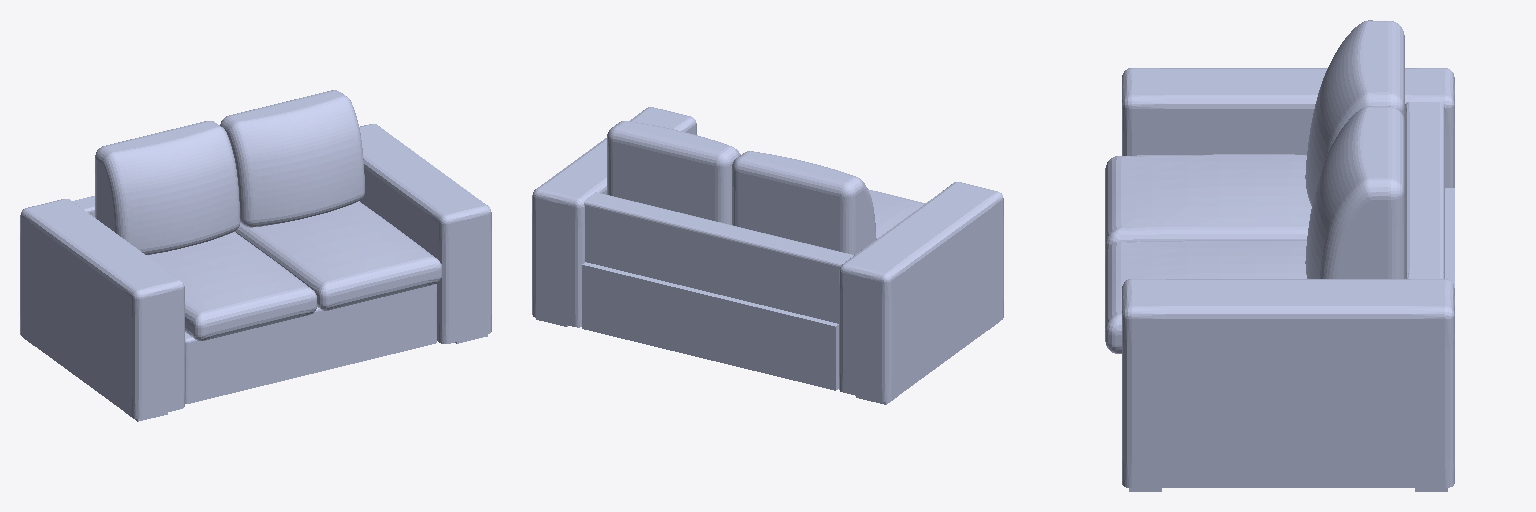
The robot description file, URDF, robot "couch_double_seater":
<robot
  name="couch_double_seater">
  <link
    name="couch_double_seater">
    <inertial>
      <origin
        xyz="0.875 0.53844 0.32362"
        rpy="0 0 0" />
      <mass
        value="971.7" />
      <inertia
        ixx="114.496758296967"
        ixy="-0.000377848140600712"
        ixz="-0.00108224404037305"
        iyy="290.239741539032"
        iyz="-10.3918742090181"
        izz="328.407367871819" />
    </inertial>
    <visual>
      <origin
        xyz="0 0 0"
        rpy="0 0 0" />
      <geometry>
        <mesh
          filename="package://couch_double_seater/meshes/couch_double_seater.dae" />
      </geometry>
      <material
        name="">
        <color
          rgba="0.79216 0.81961 0.93333 1" />
      </material>
    </visual>
    <collision>
      <origin
        xyz="0 0 0"
        rpy="0 0 0" />
      <geometry>
        <mesh
          filename="package://couch_double_seater/meshes/couch_double_seater.dae" />
      </geometry>
    </collision>
  </link>
</robot>

--- Facts derived from the render (not from the file) ---
The picture shows the robot from 3 angles, left to right: view 1: azimuth 30°, elevation 25°; view 2: azimuth 150°, elevation 25°; view 3: azimuth 270°, elevation 25°; orthographic projection.
Robot: couch_double_seater — 1 links, 0 joints (none); root link couch_double_seater; default pose: every joint at zero.
Visible links, largest first — view 1: couch_double_seater; view 2: couch_double_seater; view 3: couch_double_seater.
Boxes of the visible links, bbox=[...] form: couch_double_seater: bbox=[20, 90, 491, 421]; couch_double_seater: bbox=[532, 107, 1003, 404]; couch_double_seater: bbox=[1105, 20, 1454, 491].
Bounding box of the posed robot: 1.75 × 1.05 × 0.9 m (x, y, z).
1 mesh visuals loaded from 1 distinct referenced files (1 Collada DAE).